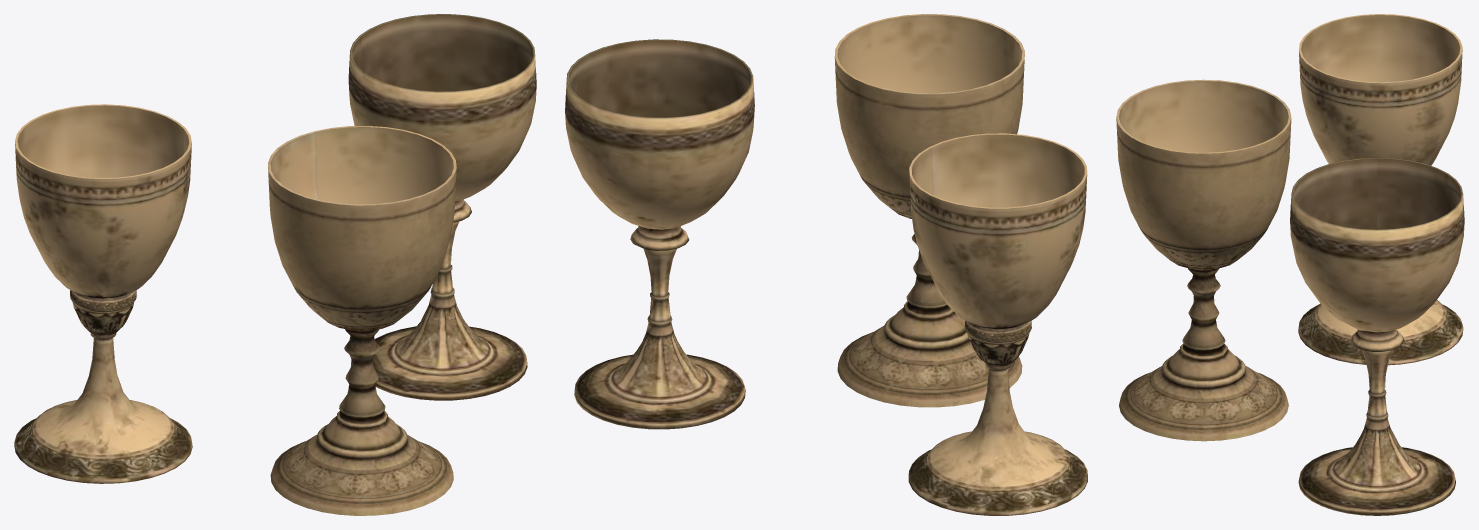
File: brass_goblets.glb
3 views of the same model, side by side, from view 1: azimuth 30°, elevation 25°; view 2: azimuth 150°, elevation 25°; view 3: azimuth 270°, elevation 25° (orthographic). The views are drawn at different scales.
Parts seen in each view (by area): view 1: brass_goblet_01, brass_goblet_02, brass_goblet_03; view 2: brass_goblet_02, brass_goblet_03, brass_goblet_01; view 3: brass_goblet_01, brass_goblet_03, brass_goblet_02.
Boxes of the visible parts, <box> form: brass_goblet_01: <box>268,126,456,515</box>; brass_goblet_02: <box>14,104,192,483</box>; brass_goblet_03: <box>348,14,536,400</box>; brass_goblet_02: <box>908,133,1087,515</box>; brass_goblet_03: <box>565,39,754,429</box>; brass_goblet_01: <box>834,14,1024,407</box>; brass_goblet_01: <box>1116,79,1291,441</box>; brass_goblet_03: <box>1290,157,1464,515</box>; brass_goblet_02: <box>1298,14,1463,365</box>.
Size of the model in its own units: 0.4534 by 0.2734 by 0.2976.
Materials: 3 (3 with a texture image).
